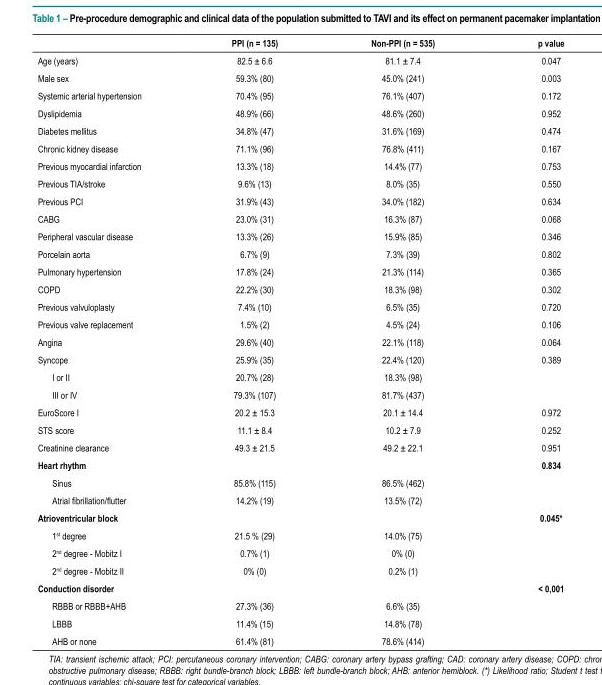table: (36, 36, 563, 646)
table column: (323, 36, 485, 646), (36, 36, 185, 646), (185, 36, 323, 646), (485, 36, 563, 646)
table column header: (36, 36, 563, 51)
table row: (36, 68, 563, 86), (36, 103, 563, 121), (36, 121, 563, 139), (36, 156, 563, 174), (36, 191, 563, 209), (36, 209, 563, 227), (36, 244, 563, 262), (36, 279, 563, 297), (36, 297, 563, 315), (36, 332, 563, 350), (36, 367, 563, 385), (36, 385, 563, 403), (36, 420, 563, 438), (36, 455, 563, 473), (36, 473, 563, 491), (36, 508, 563, 526), (36, 543, 563, 561), (36, 561, 563, 579), (36, 596, 563, 614), (36, 51, 563, 68), (36, 86, 563, 103), (36, 139, 563, 156), (36, 174, 563, 191), (36, 227, 563, 244), (36, 262, 563, 279), (36, 315, 563, 332), (36, 350, 563, 367), (36, 403, 563, 420), (36, 438, 563, 455), (36, 491, 563, 508), (36, 526, 563, 543), (36, 579, 563, 596), (36, 614, 563, 631), (36, 36, 563, 51), (36, 631, 563, 646)
